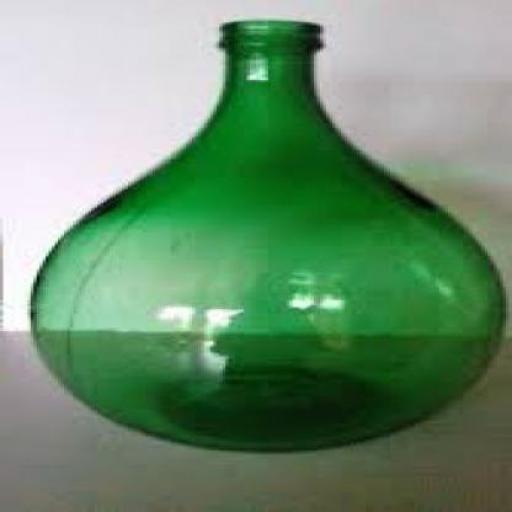glass: (30, 21, 497, 450)
